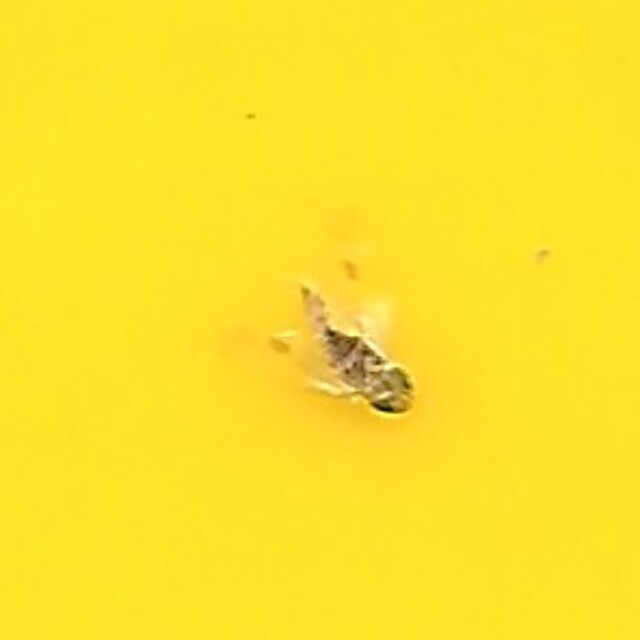Hemiptera: (216, 220, 424, 420)
